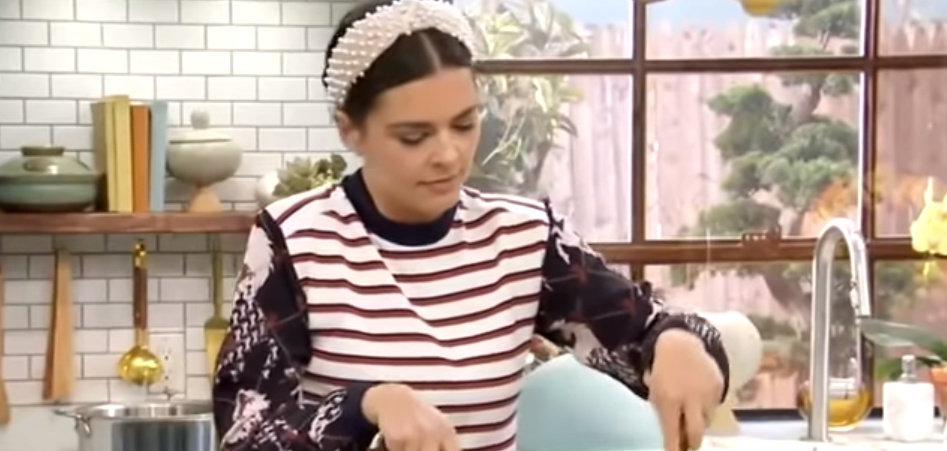mouth: (418, 173, 459, 192)
nose: (428, 153, 460, 168)
